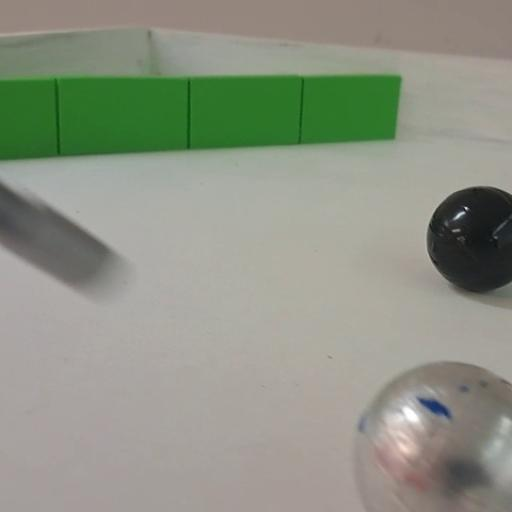alive: (352, 364, 511, 508)
dead: (426, 187, 510, 292)
